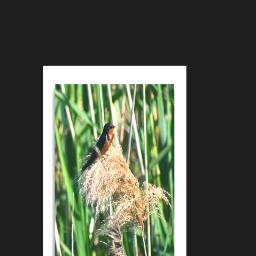Swallow: (77, 120, 118, 177)
